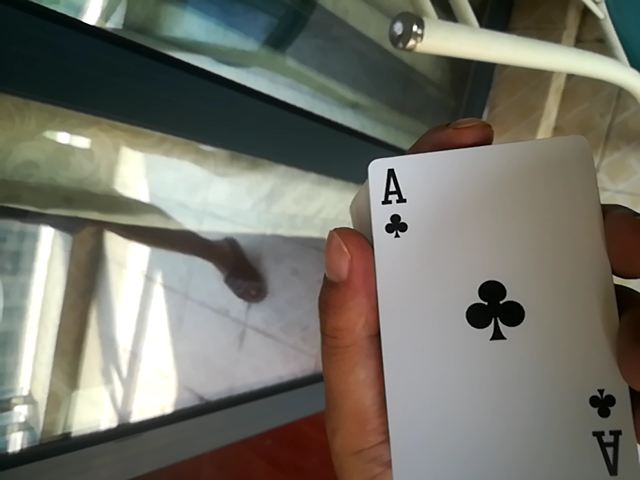mh a: (354, 134, 632, 480)
